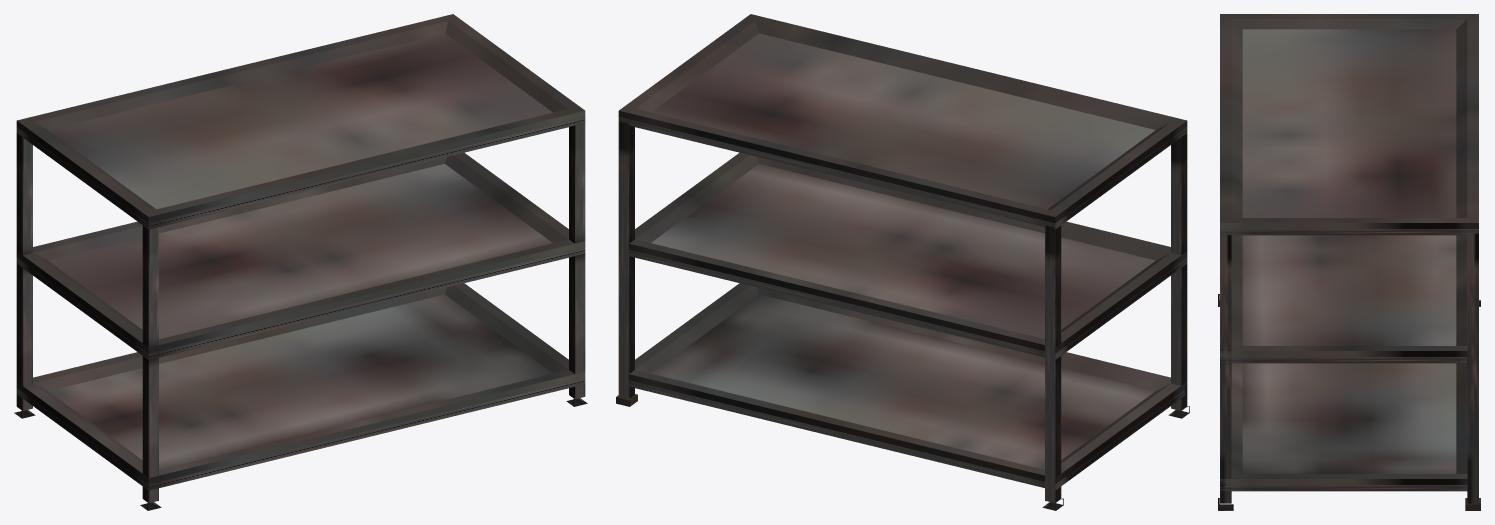
The model's file is PaslıRafKanlı.fbx.
3 renders of one model, left to right at view 1: azimuth 30°, elevation 25°; view 2: azimuth 150°, elevation 25°; view 3: azimuth 270°, elevation 25°, orthographic.
Parts seen in each view (by area): view 1: Cube.002; view 2: Cube.002; view 3: Cube.002.
Part boxes in pixels (<box>): Cube.002: <box>14,14,587,510</box>; Cube.002: <box>616,14,1189,510</box>; Cube.002: <box>1218,14,1480,510</box>.
Size of the model in its own units: 212 by 135 by 112.
